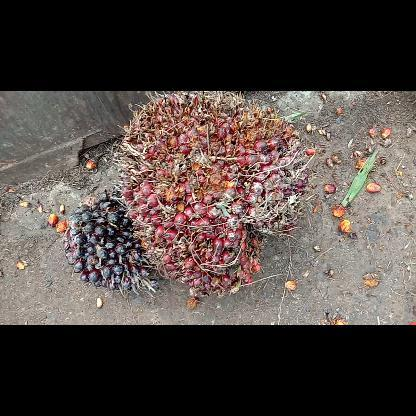TBS abnormal: (60, 192, 160, 296)
TBS masak: (116, 92, 312, 296)
